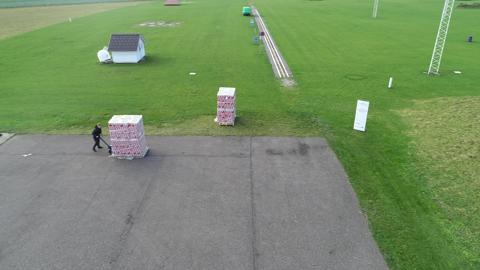RockwoolPallet: (109, 114, 151, 155)
